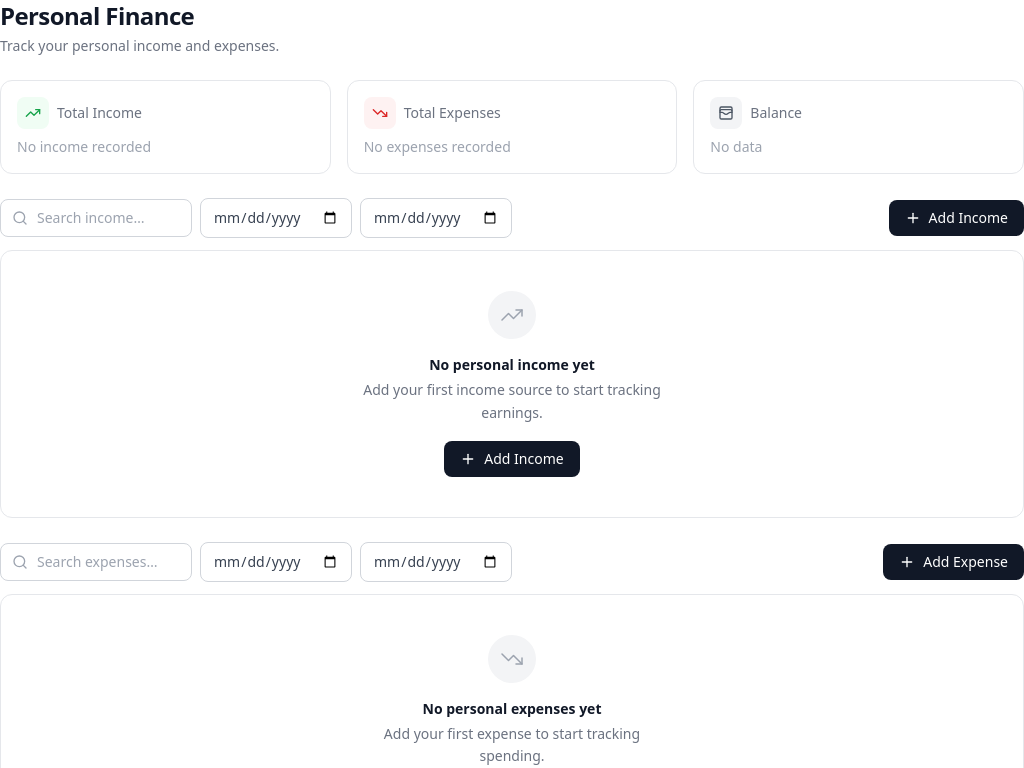
Test: PersonalFinancePage — income CRUD › shows validation error for empty source
The image size is (1024, 768).
Check: the heading "No personal income yet" is shown, box [429, 355, 595, 375]
Click the 1st button "Add Income": [956, 218] box [889, 200, 1023, 236]
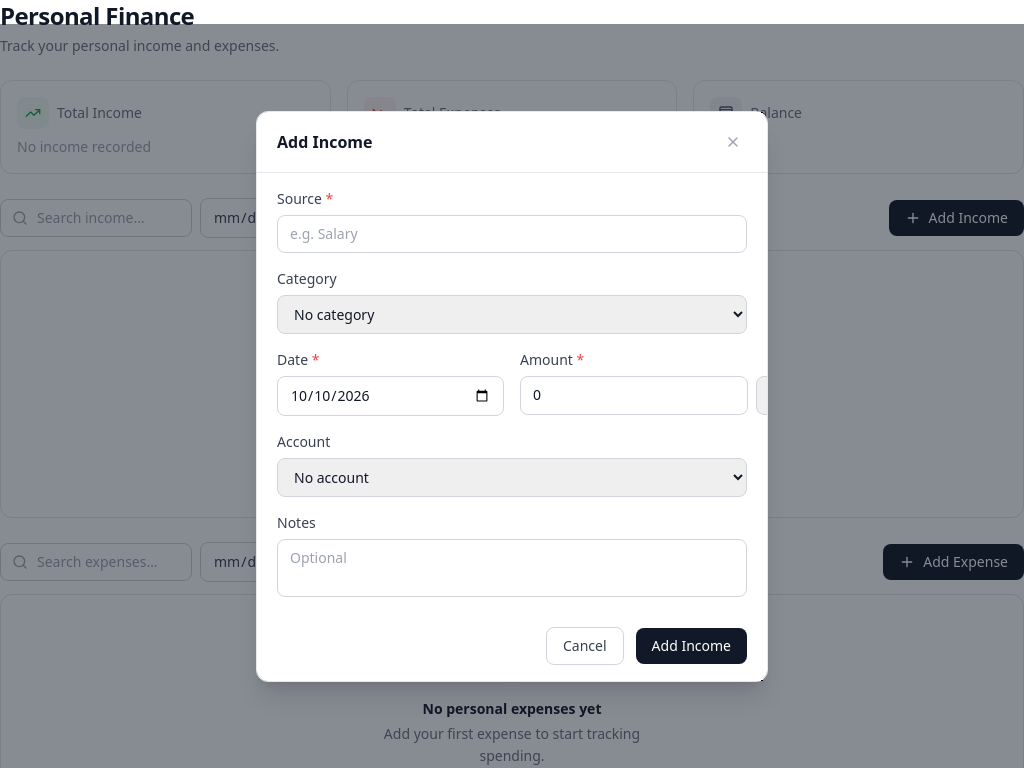
Check: the dialog is shown, box [256, 110, 768, 682]
Click the button "Add Income": [691, 646] box [636, 628, 747, 664]
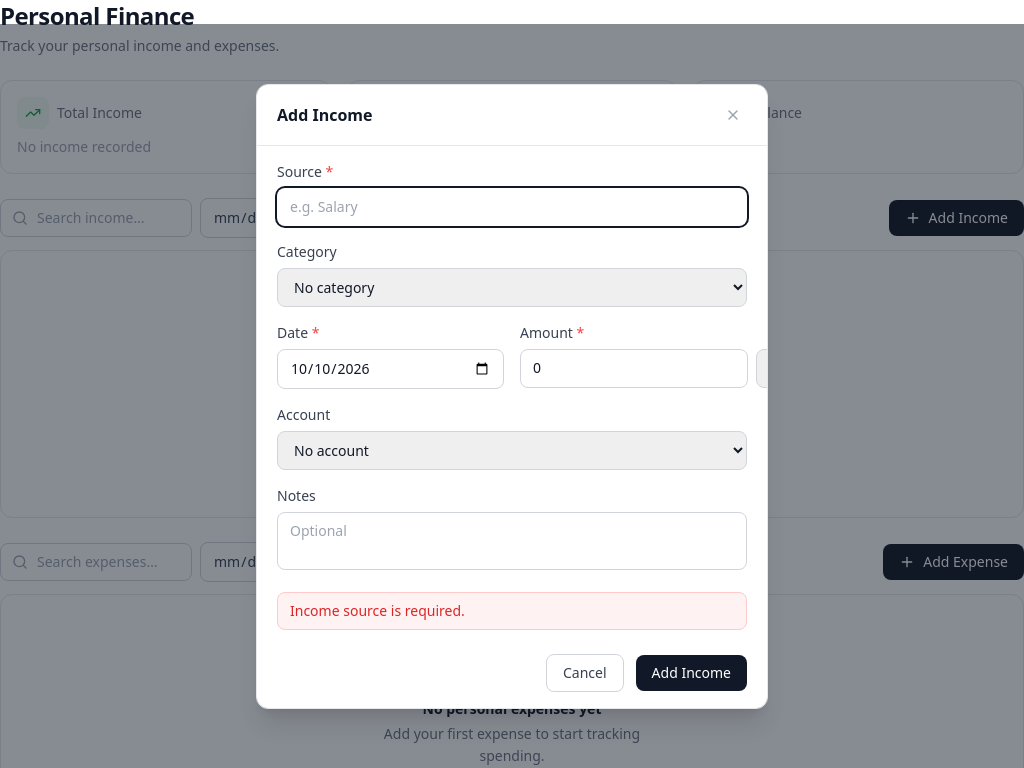
Check: the text "Income source is required." is shown, box [277, 592, 747, 630]
